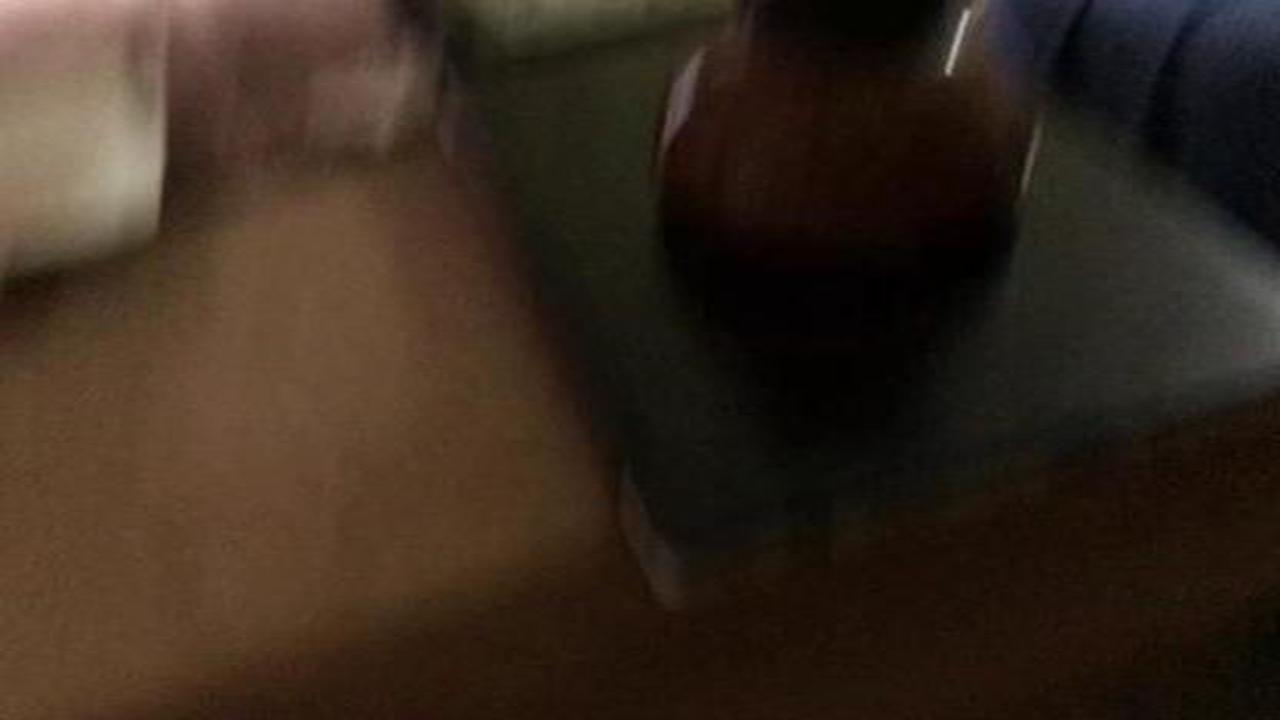insulator_pin: (647, 25, 1028, 290)
